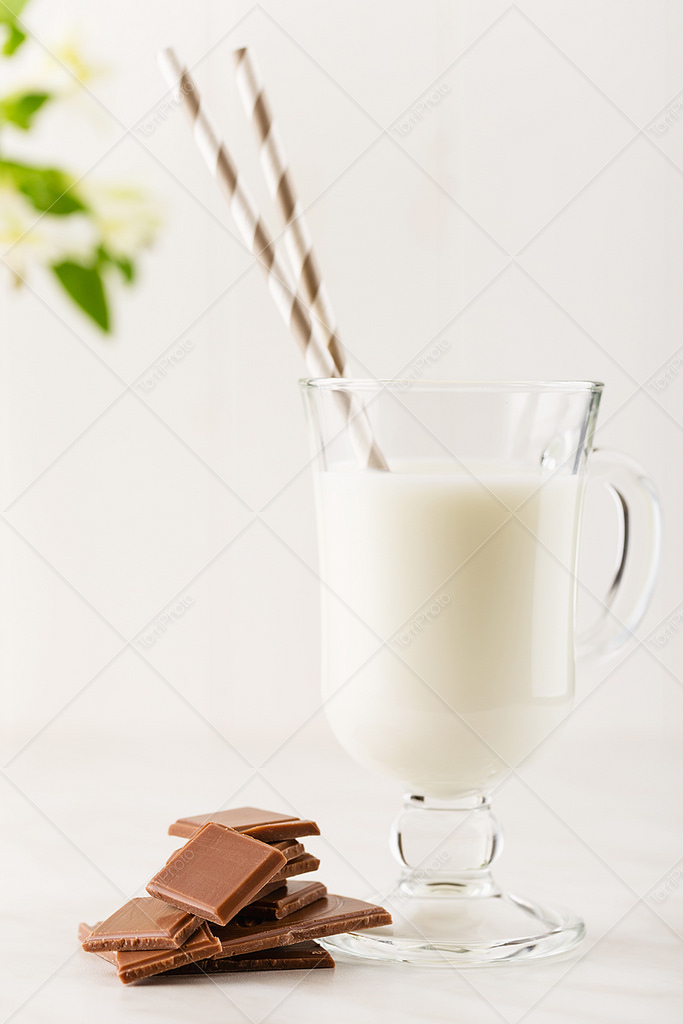glass of milk: (313, 376, 624, 976)
